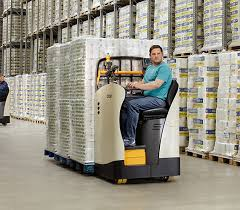Pallet Jack: (44, 55, 187, 185)
